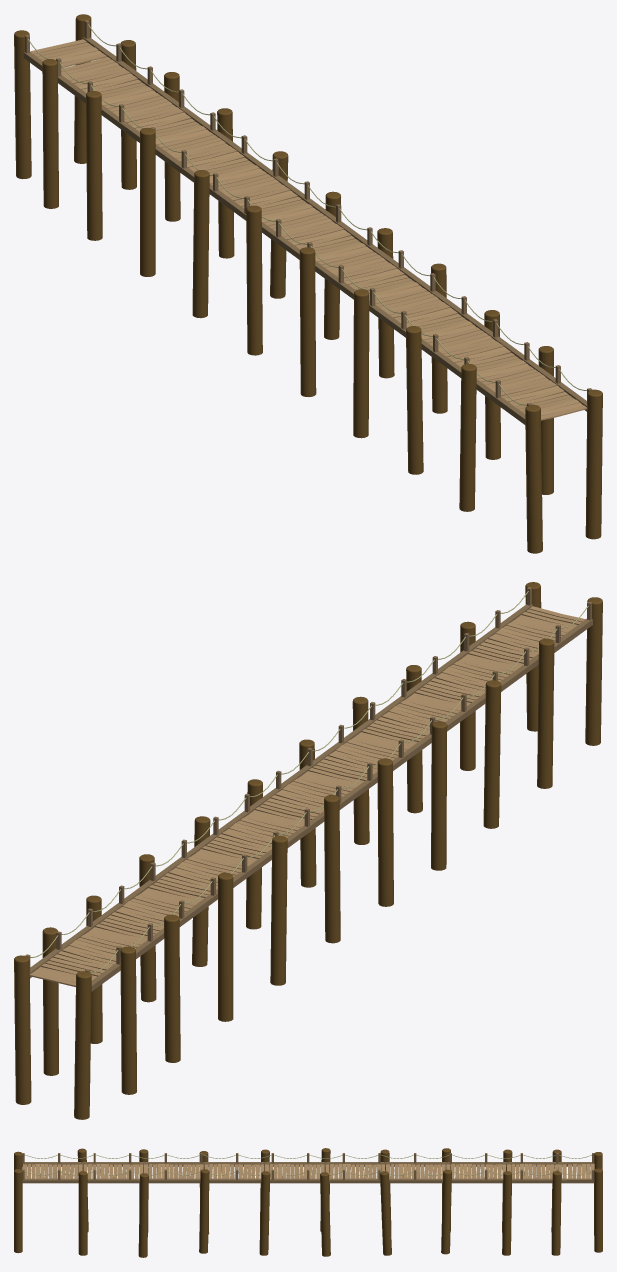
File: beach_dock.fbx
3 views of the same model, one above another, from view 1: azimuth 30°, elevation 25°; view 2: azimuth 150°, elevation 25°; view 3: azimuth 270°, elevation 25° (orthographic). The views are drawn at different scales.
Parts seen in each view (by area): view 1: beach_dock_02_dock_poles, beach_dock_02_planks_01, beach_dock_02_rope_fences, beach_dock_02_planks_02; view 2: beach_dock_02_dock_poles, beach_dock_02_planks_01, beach_dock_02_rope_fences, beach_dock_02_planks_02; view 3: beach_dock_02_planks_01, beach_dock_02_dock_poles, beach_dock_02_rope_fences, beach_dock_02_planks_02.
Boxes of the visible parts, left/top/right/bottom form: beach_dock_02_dock_poles: left=14, top=14, right=602, bottom=553; beach_dock_02_planks_01: left=58, top=54, right=587, bottom=424; beach_dock_02_rope_fences: left=24, top=20, right=592, bottom=405; beach_dock_02_planks_02: left=23, top=37, right=112, bottom=71; beach_dock_02_dock_poles: left=14, top=582, right=602, bottom=1119; beach_dock_02_planks_01: left=48, top=604, right=592, bottom=975; beach_dock_02_rope_fences: left=25, top=587, right=592, bottom=972; beach_dock_02_planks_02: left=29, top=954, right=112, bottom=991; beach_dock_02_planks_01: left=22, top=1162, right=567, bottom=1183; beach_dock_02_dock_poles: left=14, top=1148, right=602, bottom=1257; beach_dock_02_rope_fences: left=22, top=1153, right=594, bottom=1179; beach_dock_02_planks_02: left=567, top=1162, right=594, bottom=1183.
Bounding box in the file's own units: 617 × 961 × 6009.
